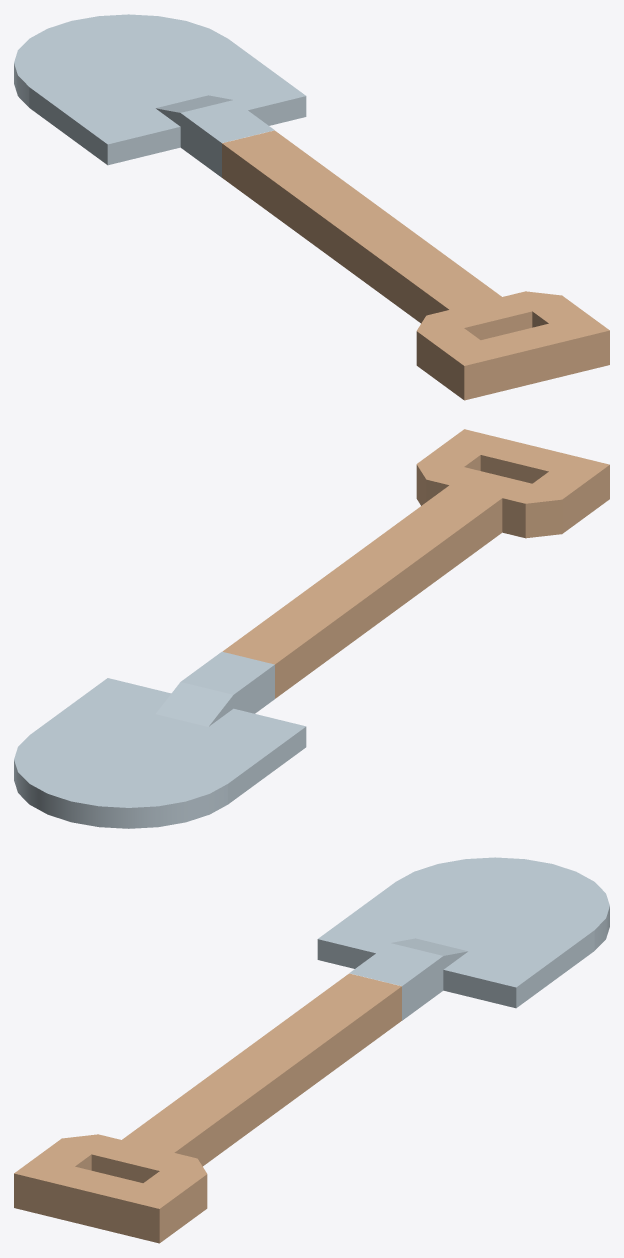
Rendered from shovel.gltf.
3 renders of one model, top to bottom at view 1: azimuth 30°, elevation 25°; view 2: azimuth 150°, elevation 25°; view 3: azimuth 330°, elevation 25°, orthographic.
Visible parts, largest first — view 1: shovel; view 2: shovel; view 3: shovel.
Part boxes in pixels (x1,y1,x2,y2): shovel: (14, 14, 609, 400); shovel: (14, 429, 609, 828); shovel: (14, 857, 609, 1243).
Bounding box in the file's own units: 0.2209 × 0.0368 × 0.897.
